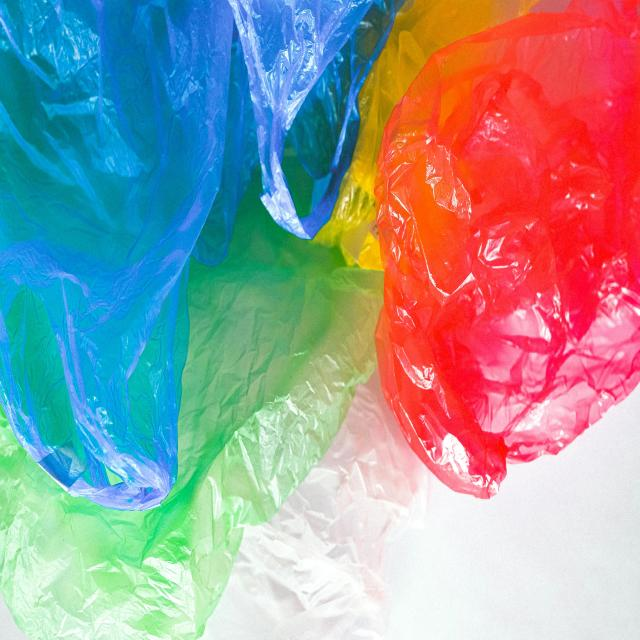Single-layer Plastic: (0, 172, 382, 639), (375, 2, 640, 499), (0, 0, 234, 510), (205, 371, 430, 639), (315, 0, 536, 270), (230, 0, 401, 238)
